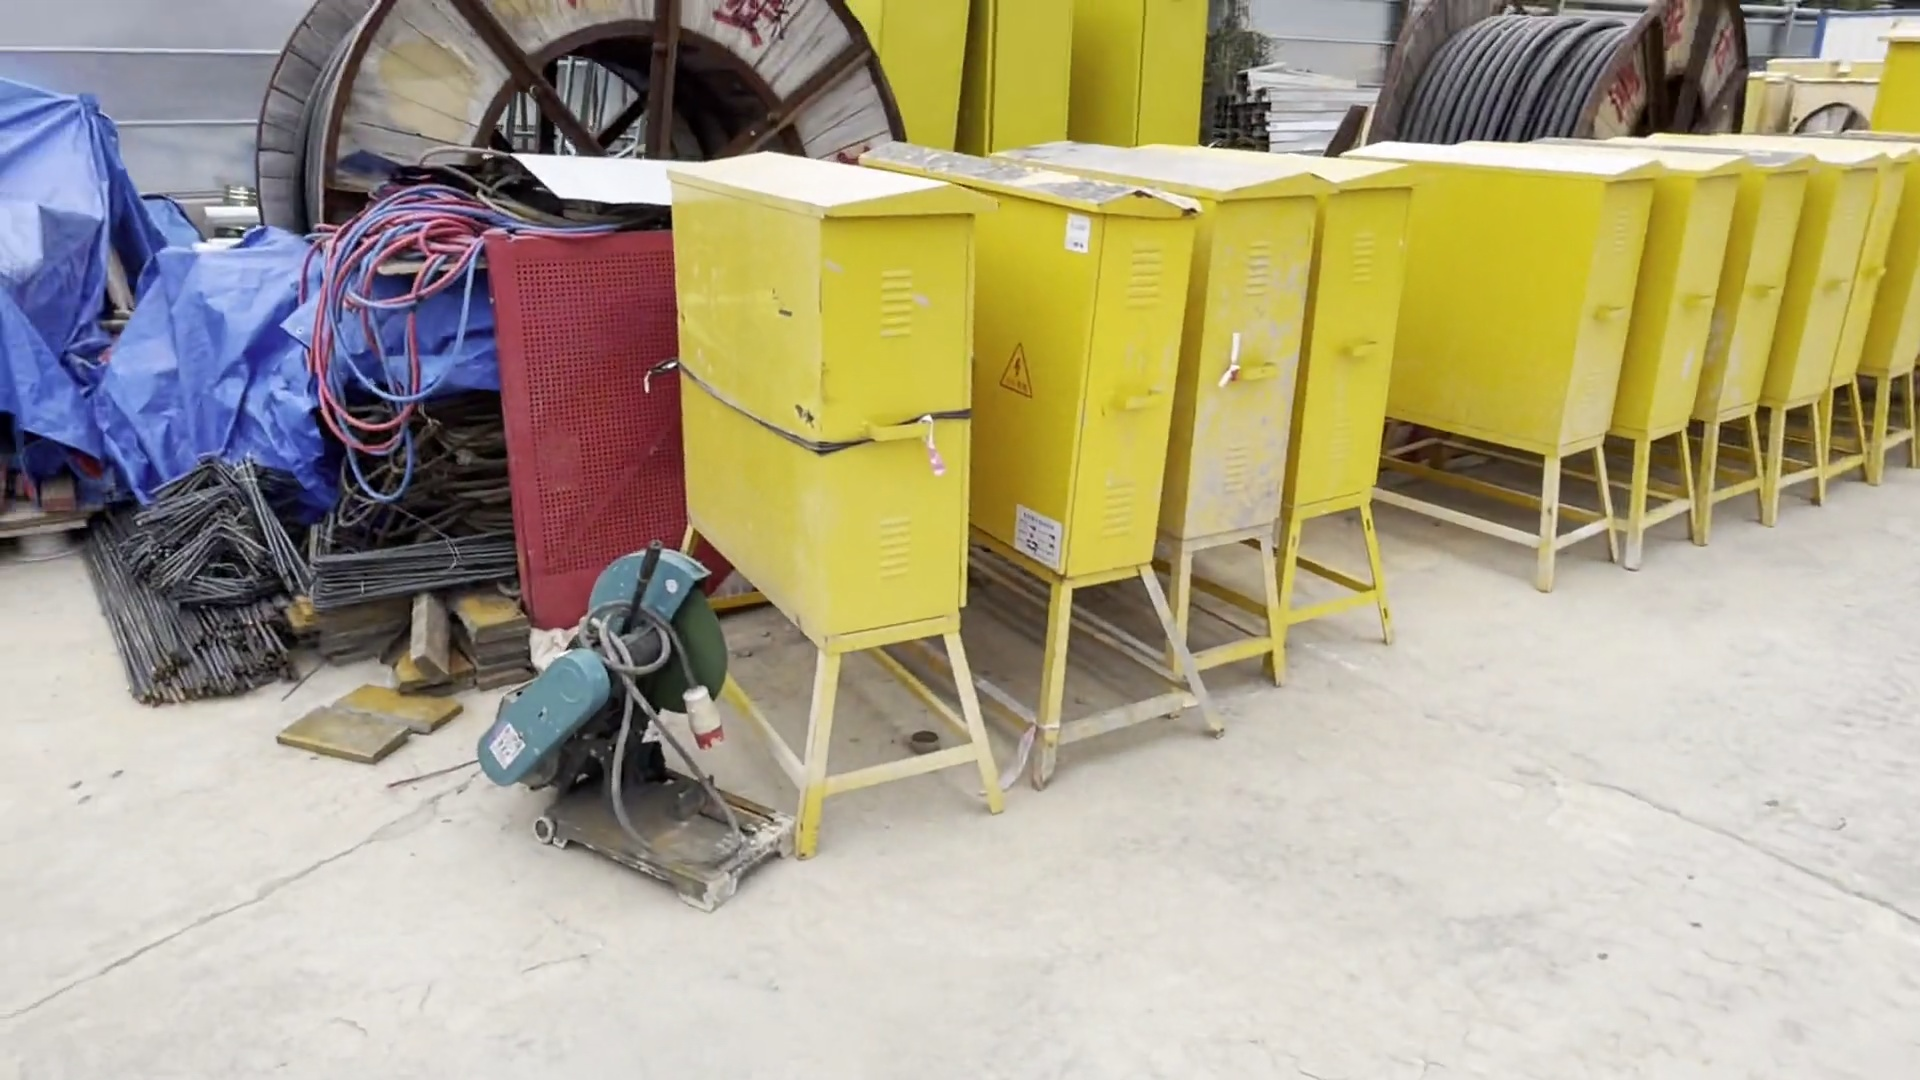ebox: (645, 129, 1007, 823), (961, 148, 1222, 748), (1367, 160, 1652, 585), (1056, 145, 1280, 678), (1224, 160, 1396, 650), (1600, 145, 1730, 571), (1681, 161, 1803, 545), (1772, 156, 1867, 522), (1855, 153, 1909, 498)
